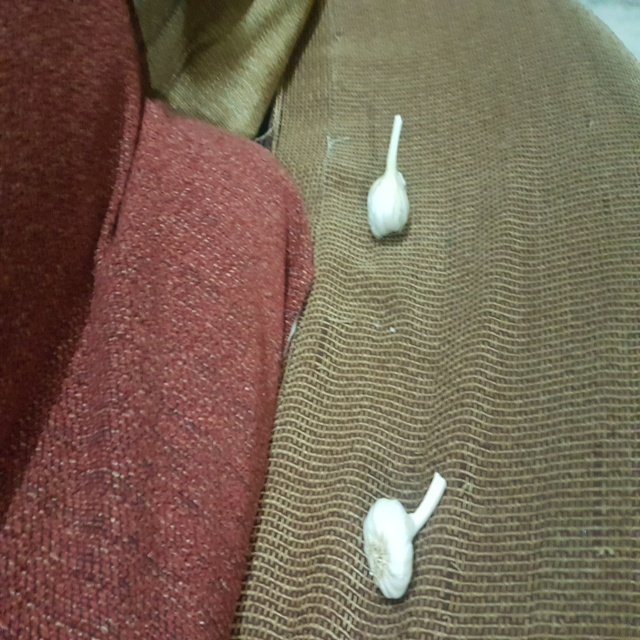garlic: (363, 473, 455, 603), (368, 117, 423, 244)
